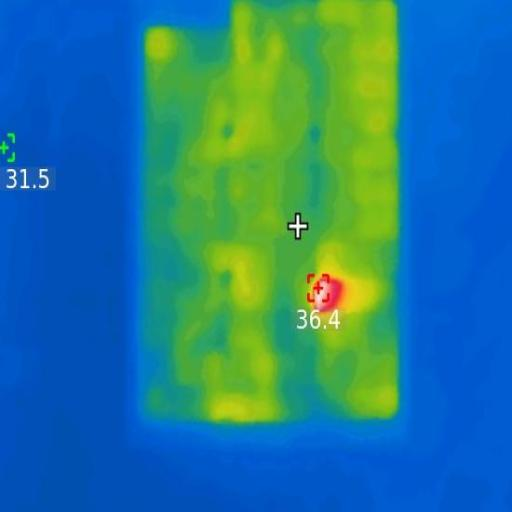hotspot: (307, 269, 348, 321)
